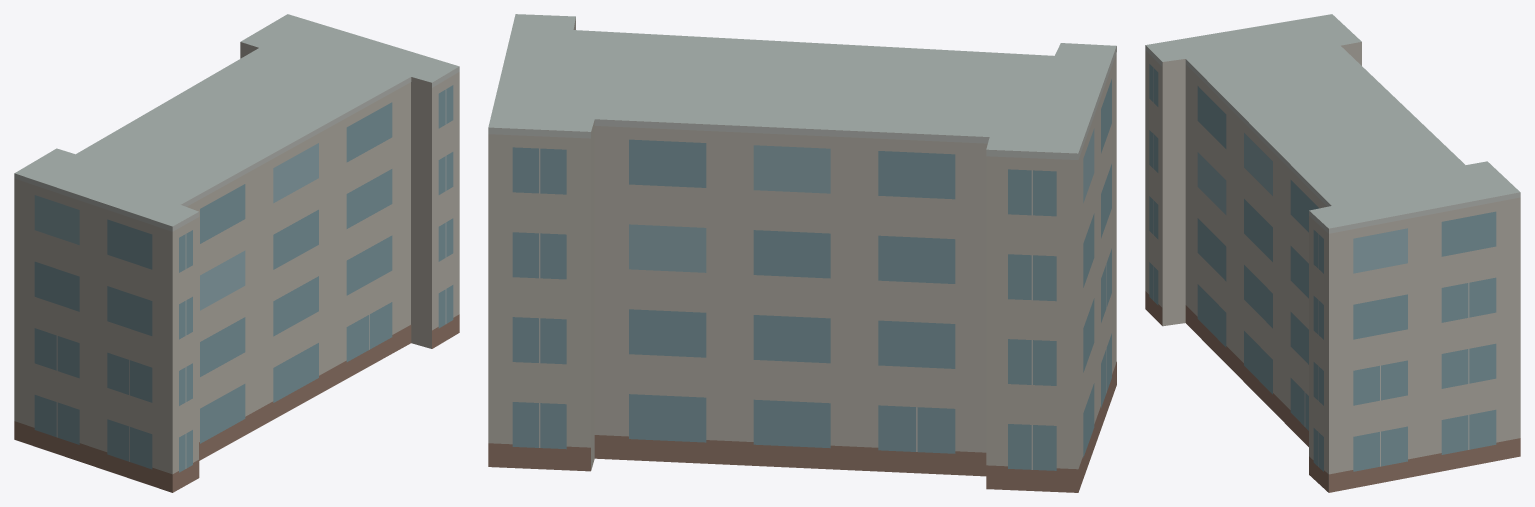
Rendered from survey-upis-33013014.glb.
The picture shows the model from 3 angles, left to right: view 1: azimuth 30°, elevation 25°; view 2: azimuth 150°, elevation 25°; view 3: azimuth 270°, elevation 25°; orthographic projection. The views are drawn at different scales.
Parts seen in each view (by area): view 1: survey-upis-33013014.tmp; view 2: survey-upis-33013014.tmp; view 3: survey-upis-33013014.tmp.
Boxes of the visible parts, x1,y1,x2,y2 form: survey-upis-33013014.tmp: (14,14,459,492); survey-upis-33013014.tmp: (488,14,1116,492); survey-upis-33013014.tmp: (1145,14,1520,492).
Bounding box in the file's own units: 21.7 × 12.45 × 16.03.
